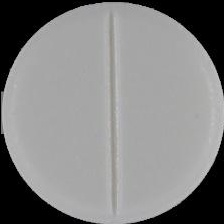59746-173: (0, 0, 224, 224)
